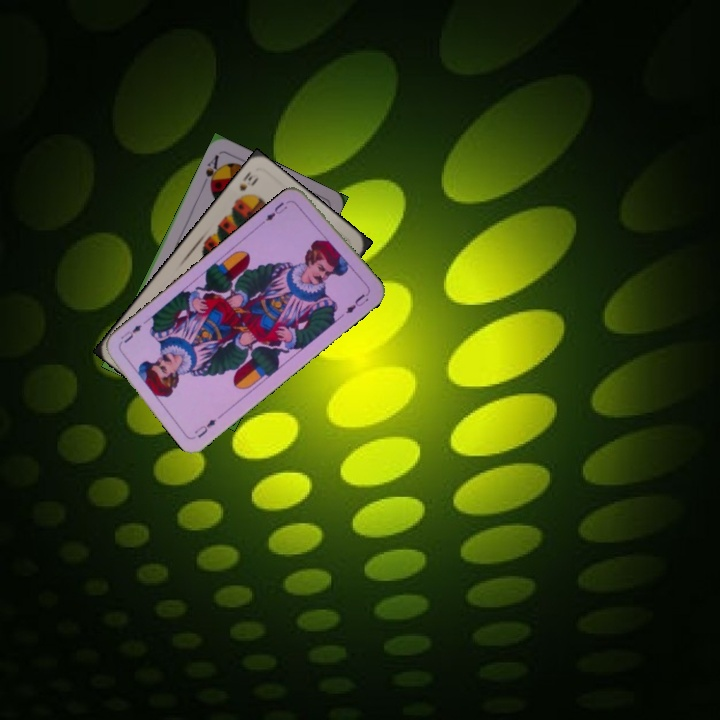EU: (261, 198, 289, 224), (190, 415, 219, 440)
S10: (232, 167, 261, 203)
SA: (201, 151, 224, 191)
